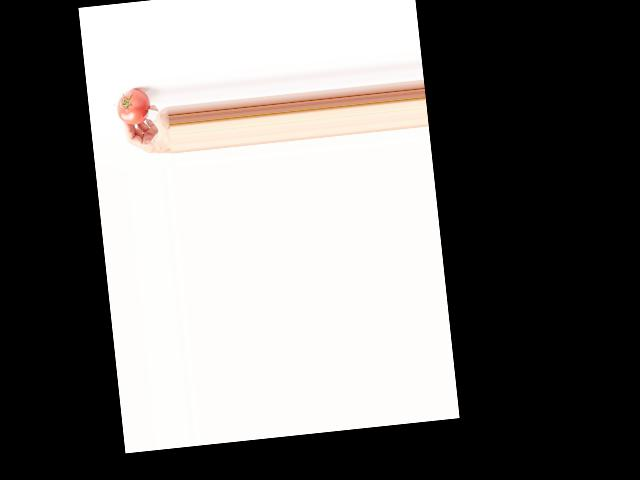tomato: (115, 87, 151, 126)
